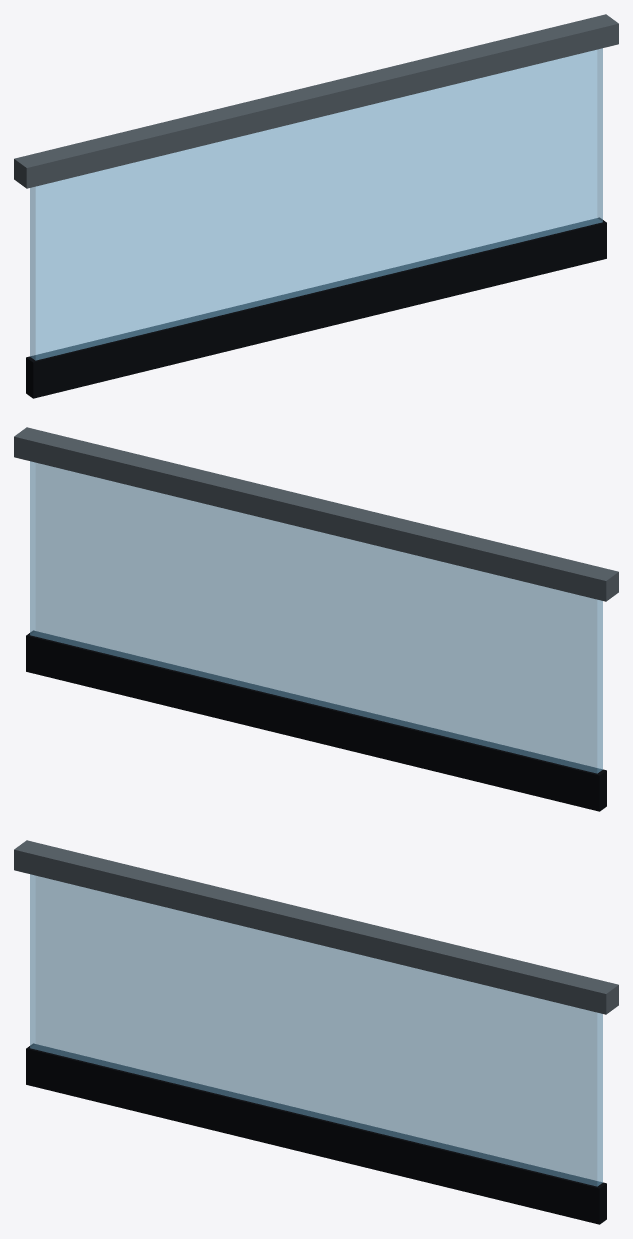
Rendered from window.subroom_one_way_panel.glb.
3 renders of one model, top to bottom at view 1: azimuth 30°, elevation 25°; view 2: azimuth 150°, elevation 25°; view 3: azimuth 330°, elevation 25°, orthographic.
Visible parts, largest first — view 1: black_glass, dark_backer, top_frame; view 2: black_glass, dark_backer, top_frame; view 3: black_glass, dark_backer, top_frame.
Boxes of the visible parts, bbox=[...] form: black_glass: bbox=[30, 48, 602, 360]; dark_backer: bbox=[26, 217, 606, 398]; top_frame: bbox=[14, 14, 618, 188]; black_glass: bbox=[30, 461, 602, 773]; dark_backer: bbox=[26, 630, 606, 811]; top_frame: bbox=[14, 427, 618, 601]; black_glass: bbox=[30, 874, 602, 1186]; dark_backer: bbox=[26, 1043, 606, 1224]; top_frame: bbox=[14, 840, 618, 1014].
Bounding box in the file's own units: 4.8 × 1.82 × 0.18.
